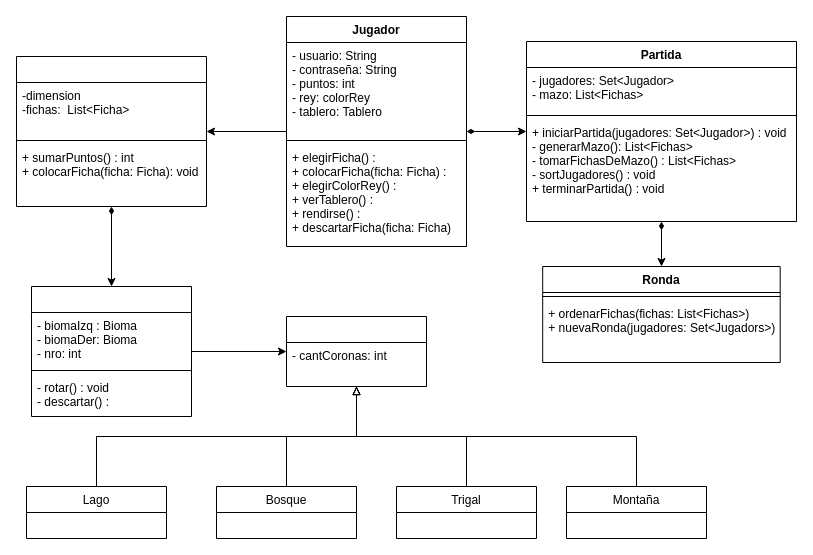
Some shapes in this 813 by 555 pixel diagram are drawn without their labels. Each missing label, with the box of its shape:
Bioma: (286, 316, 426, 386)
Ficha: (30, 286, 192, 416)
Tablero: (16, 56, 206, 206)
